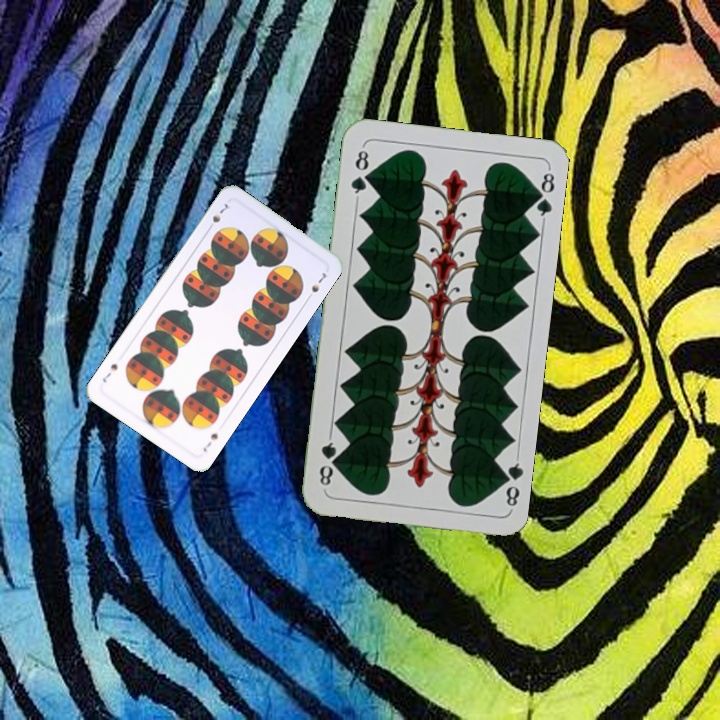G8: (495, 453, 525, 512), (346, 146, 372, 202)
S7: (203, 199, 231, 233), (199, 429, 221, 455)
